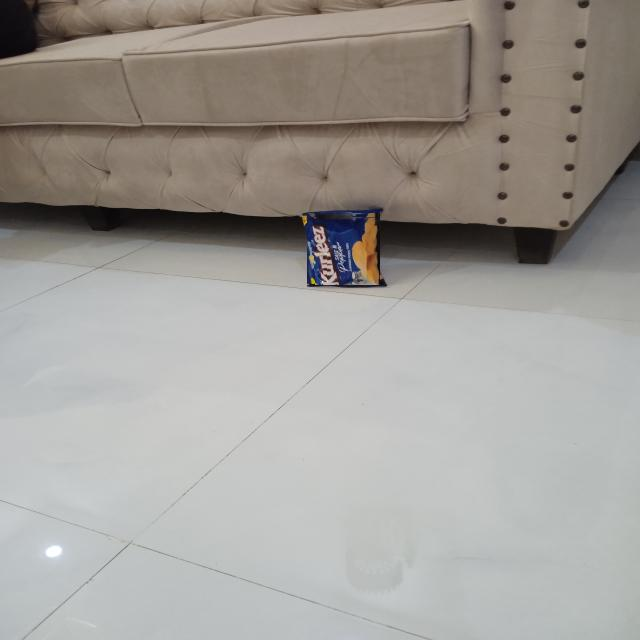Plastic: (307, 212, 380, 285)
